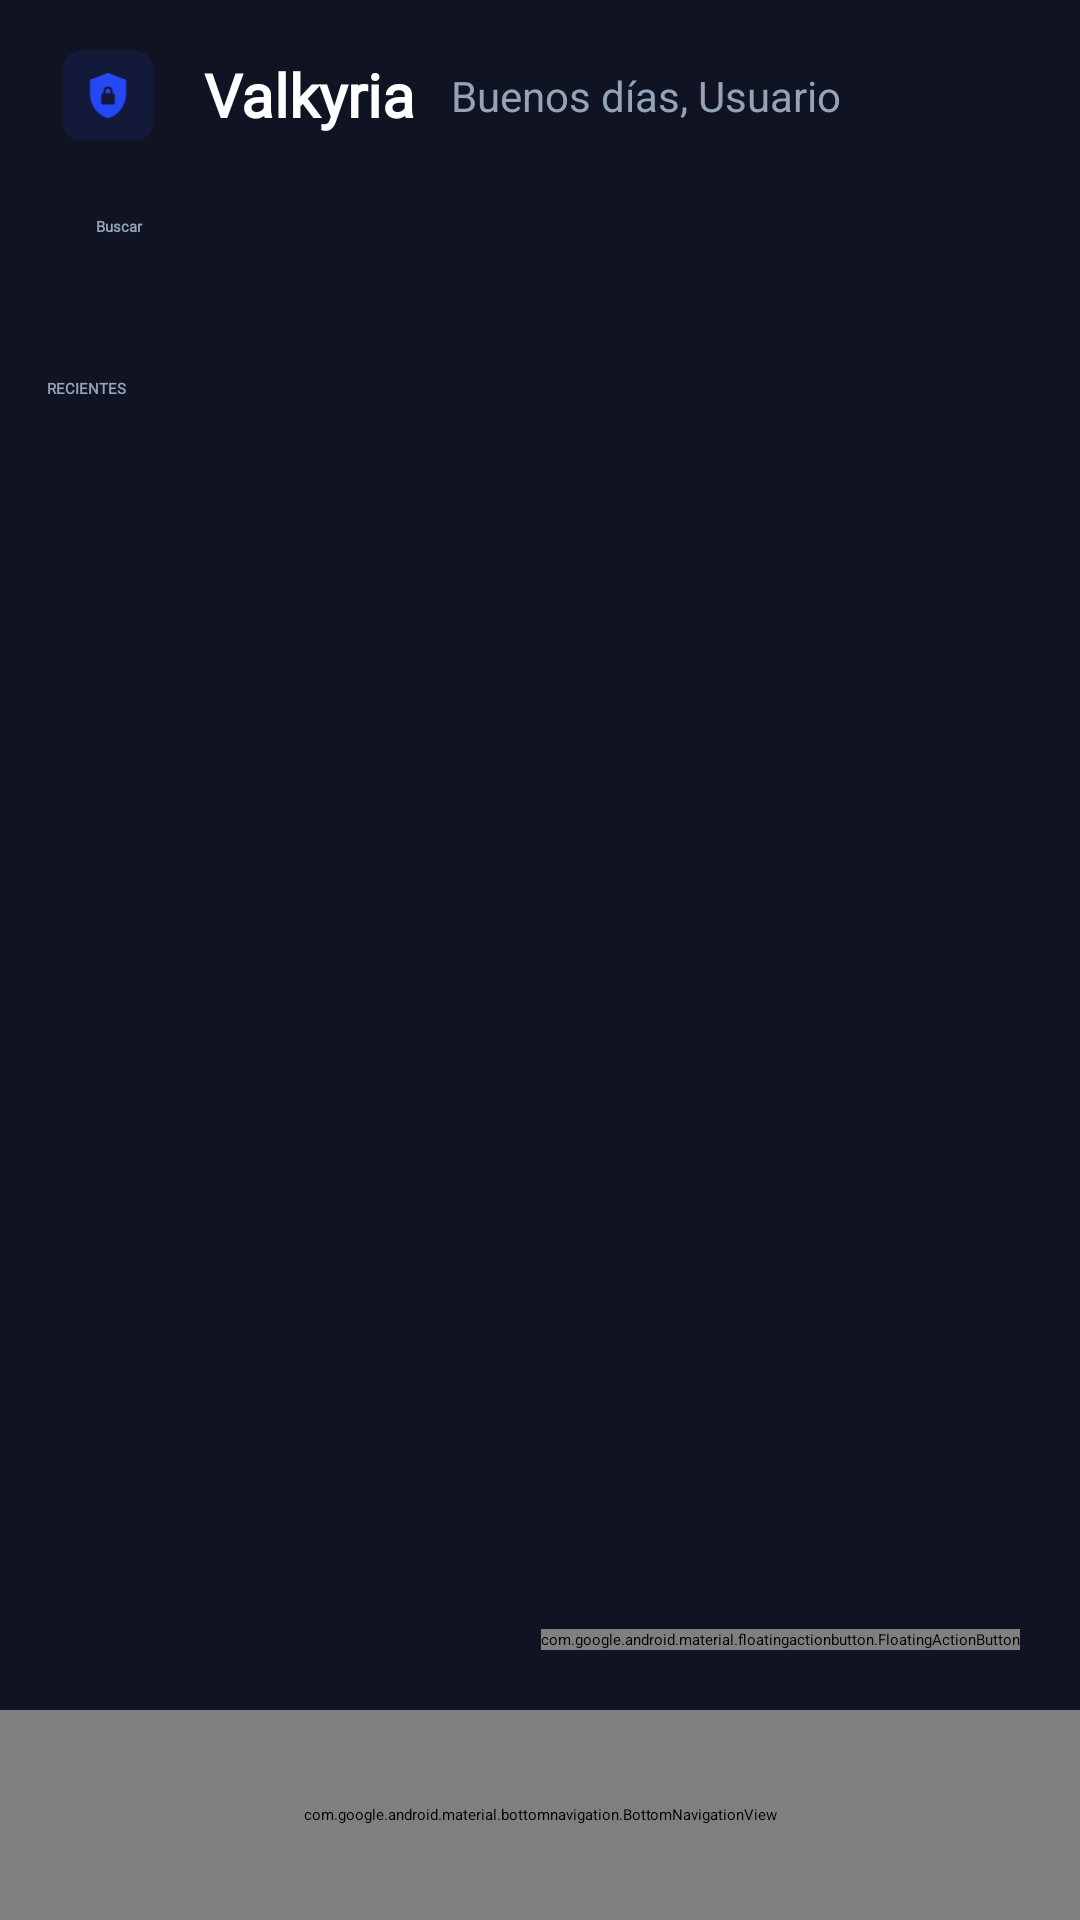

Icon bounding boxes for this 1080px x 1920px phone screenshot, format detection(x1, y1, x2, y2):
inicio sesion: detection(89, 73, 127, 119)
